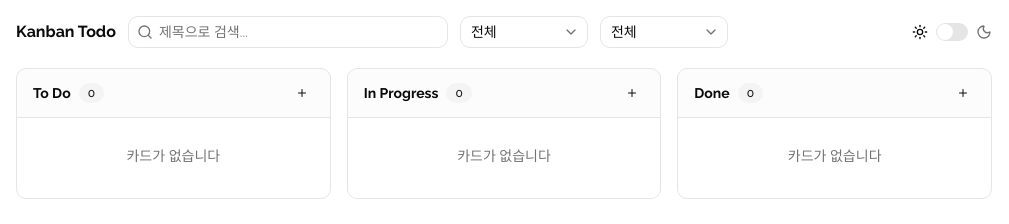
Test case: KANBAN-001: 카드 추가 › example 1: + 버튼 클릭 → 제목 Input 표시
Click the button named "추가" in the row of "To Do" at (302, 93), box [290,81,314,105]
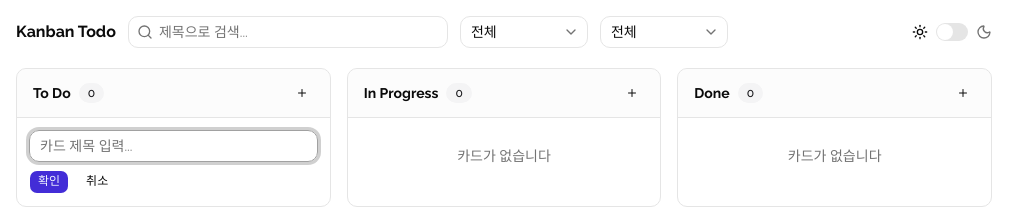
Now the field labelled "카드 제목 입력..." is shown, box [29,130,318,162]
